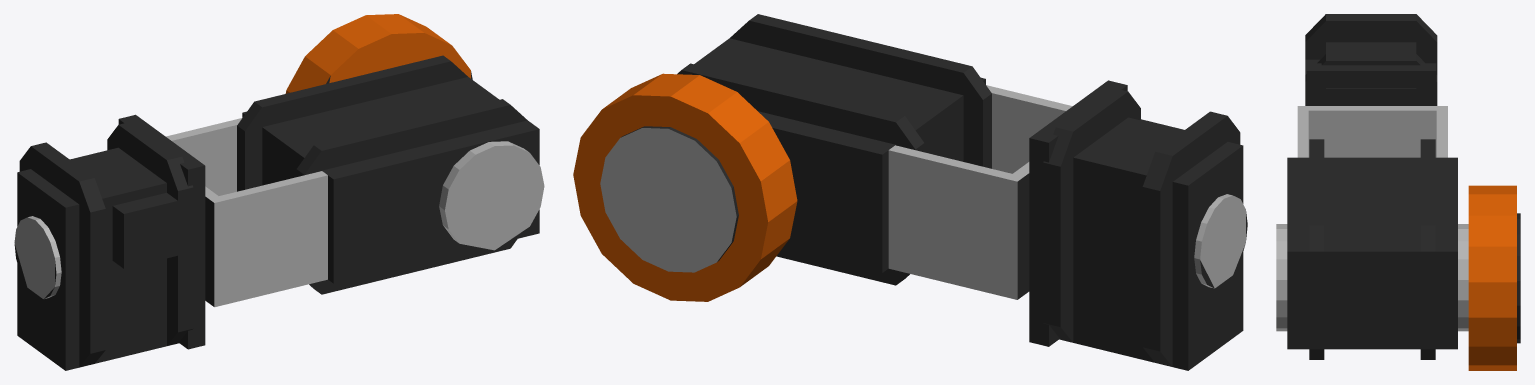
3 renders of one model, left to right at view 1: azimuth 30°, elevation 25°; view 2: azimuth 150°, elevation 25°; view 3: azimuth 270°, elevation 25°, orthographic. The views are drawn at different scales.
Parts seen in each view (by area): view 1: right_under; view 2: right_under; view 3: right_under.
Boxes of the visible parts, x1,y1,x2,y2 form: right_under: [14, 14, 544, 370]; right_under: [573, 14, 1247, 370]; right_under: [1276, 14, 1520, 370].
Size of the model in its own units: 14.4 by 6.58 by 5.18.
